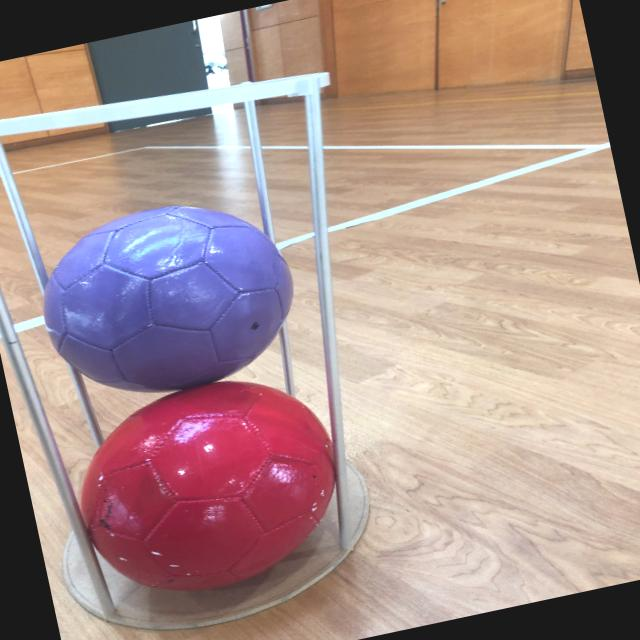purple_ball: (24, 178, 311, 412)
red_ball: (60, 357, 362, 612)
